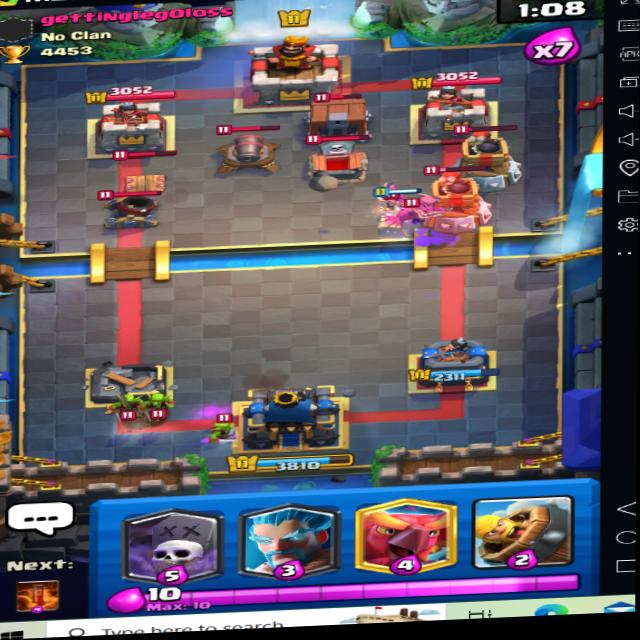bomb-tower: (422, 157, 496, 231), (451, 121, 527, 188)
cannon: (208, 117, 293, 178)
goblin: (206, 412, 248, 445), (108, 385, 143, 424), (142, 386, 167, 420)
goblin-cage: (296, 86, 376, 141)
mortar: (92, 182, 164, 235)
tesla-closed: (110, 140, 177, 197)
tombstone: (303, 129, 374, 180)
